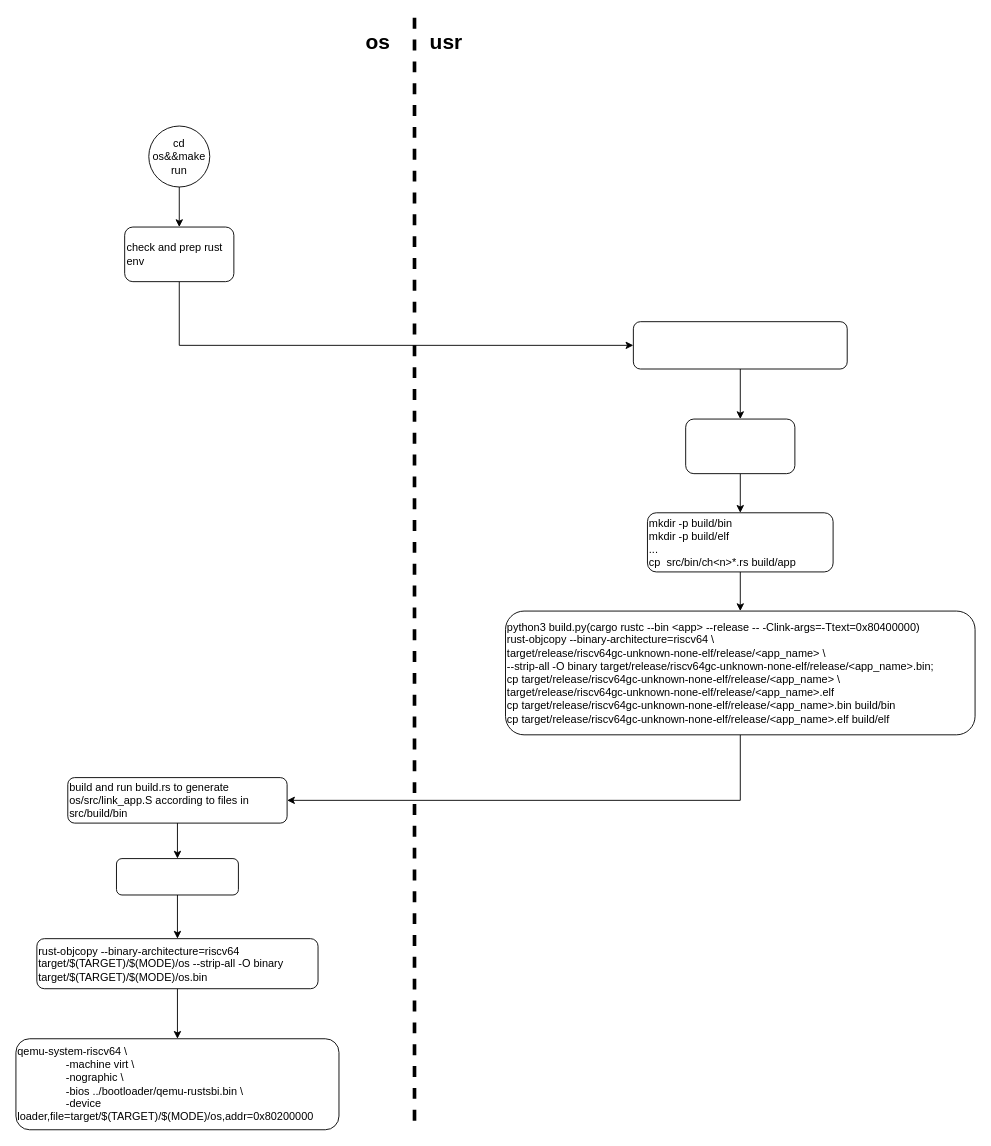
The diagram is 991 pixels wide and 1146 high, and some of its shapes have lost their labels. Each missing label, with the centre of its shape:
"cargo build --release" belongs at point 177,876.
"cargo clean rm -rf build" belongs at point 740,446.
"make -C ../user build TEST=$(TEST) CHAPTER=$(CHAPTER) BASE=$(BASE)" belongs at point 739,345.
